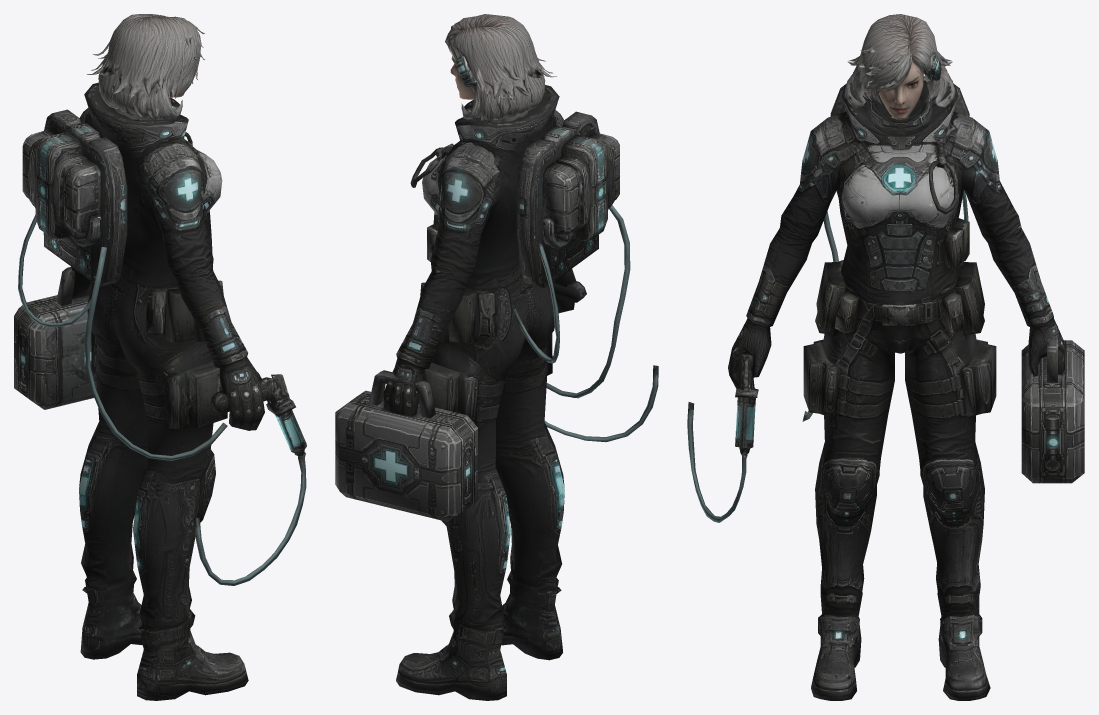
The model's file is medis.fbx.
The picture shows the model from 3 angles, left to right: view 1: azimuth 30°, elevation 25°; view 2: azimuth 150°, elevation 25°; view 3: azimuth 270°, elevation 25°; orthographic projection.
Visible parts, largest first — view 1: tripo_node_767e7820; view 2: tripo_node_767e7820; view 3: tripo_node_767e7820.
Boxes of the visible parts, bbox=[...] form: tripo_node_767e7820: bbox=[14, 14, 306, 700]; tripo_node_767e7820: bbox=[335, 14, 658, 700]; tripo_node_767e7820: bbox=[687, 14, 1084, 700].
Size of the model in its own units: 0.2988 by 0.998 by 0.5527.
